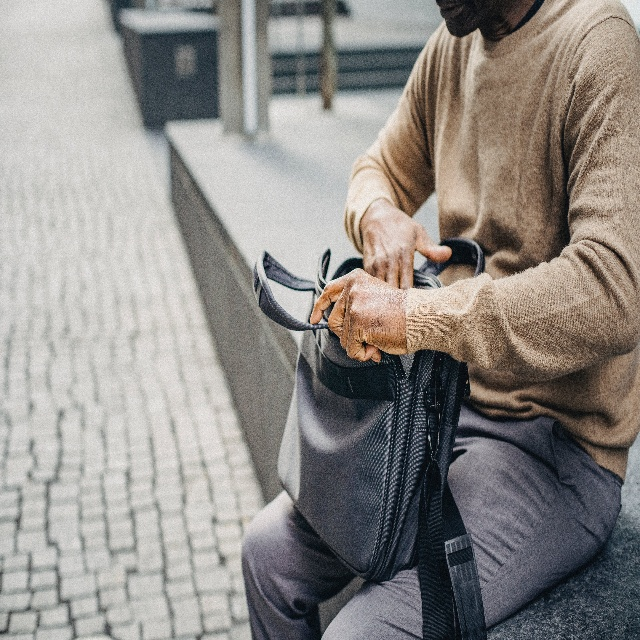Sin_guantes: (309, 268, 407, 364), (362, 198, 453, 291)
